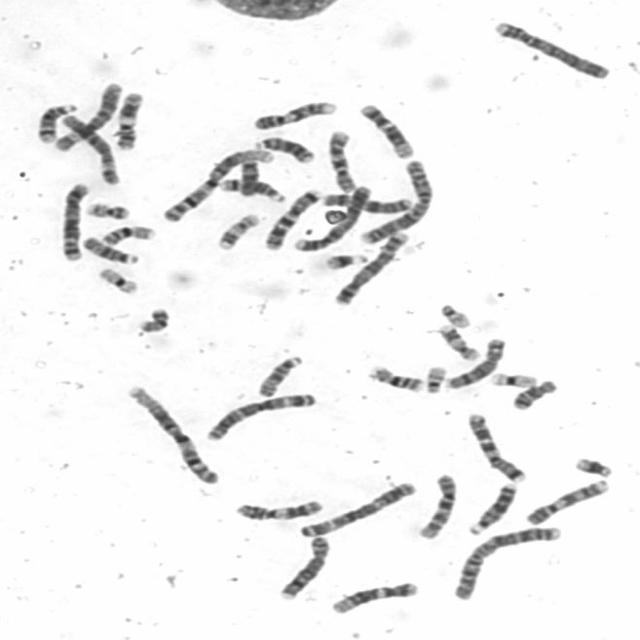A1: (123, 382, 222, 487), (158, 146, 274, 224)
A2: (449, 523, 565, 602), (356, 157, 436, 245)
A3: (295, 479, 419, 539), (202, 390, 318, 442)
B4: (490, 18, 611, 81), (290, 182, 373, 254)
B5: (330, 229, 411, 307), (54, 181, 92, 261)
C10: (414, 471, 460, 540), (324, 128, 358, 193)
C11: (232, 496, 323, 522), (111, 89, 145, 152)
C12: (326, 578, 421, 616), (357, 100, 416, 160)
C6: (50, 80, 124, 154), (57, 112, 122, 186)
C7: (464, 410, 529, 484), (261, 187, 323, 251)
C8: (276, 532, 331, 601), (442, 335, 507, 390)
C9: (522, 477, 611, 526), (248, 98, 339, 131)
D13: (464, 480, 519, 536), (250, 134, 316, 164)
D14: (32, 100, 80, 144), (216, 175, 288, 204)
D15: (253, 352, 305, 398), (79, 233, 140, 264)
E16: (363, 362, 428, 394), (98, 223, 157, 247)
E17: (434, 321, 482, 362), (213, 212, 262, 251)
E18: (508, 376, 559, 412), (234, 157, 260, 198)
F19: (96, 266, 140, 296), (486, 370, 540, 390)
F20: (134, 304, 172, 334), (84, 200, 132, 221)
G21: (568, 453, 616, 478), (322, 250, 368, 271)
G22: (436, 301, 474, 329), (422, 364, 449, 394)
X: (320, 190, 413, 216)
